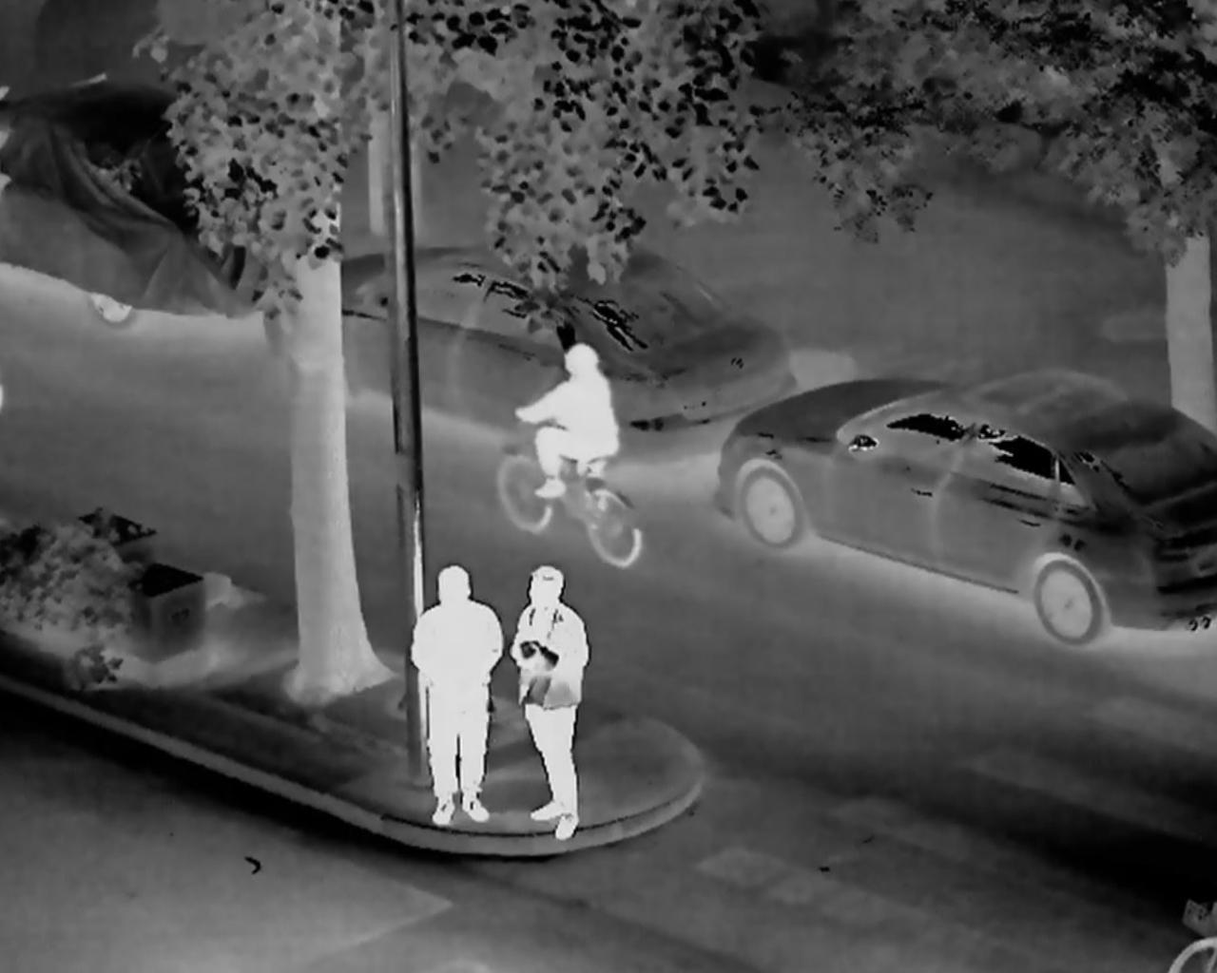person: (399, 550, 510, 834), (509, 564, 601, 849), (512, 331, 628, 510)
